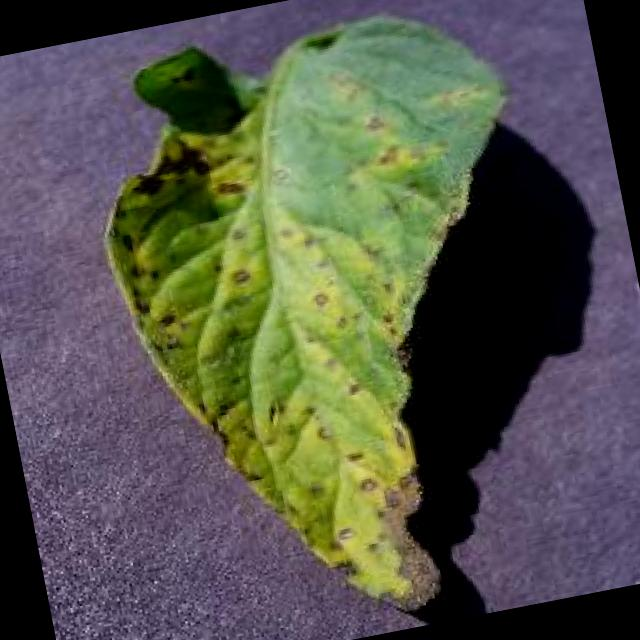leaf_spot: (108, 17, 503, 608)
